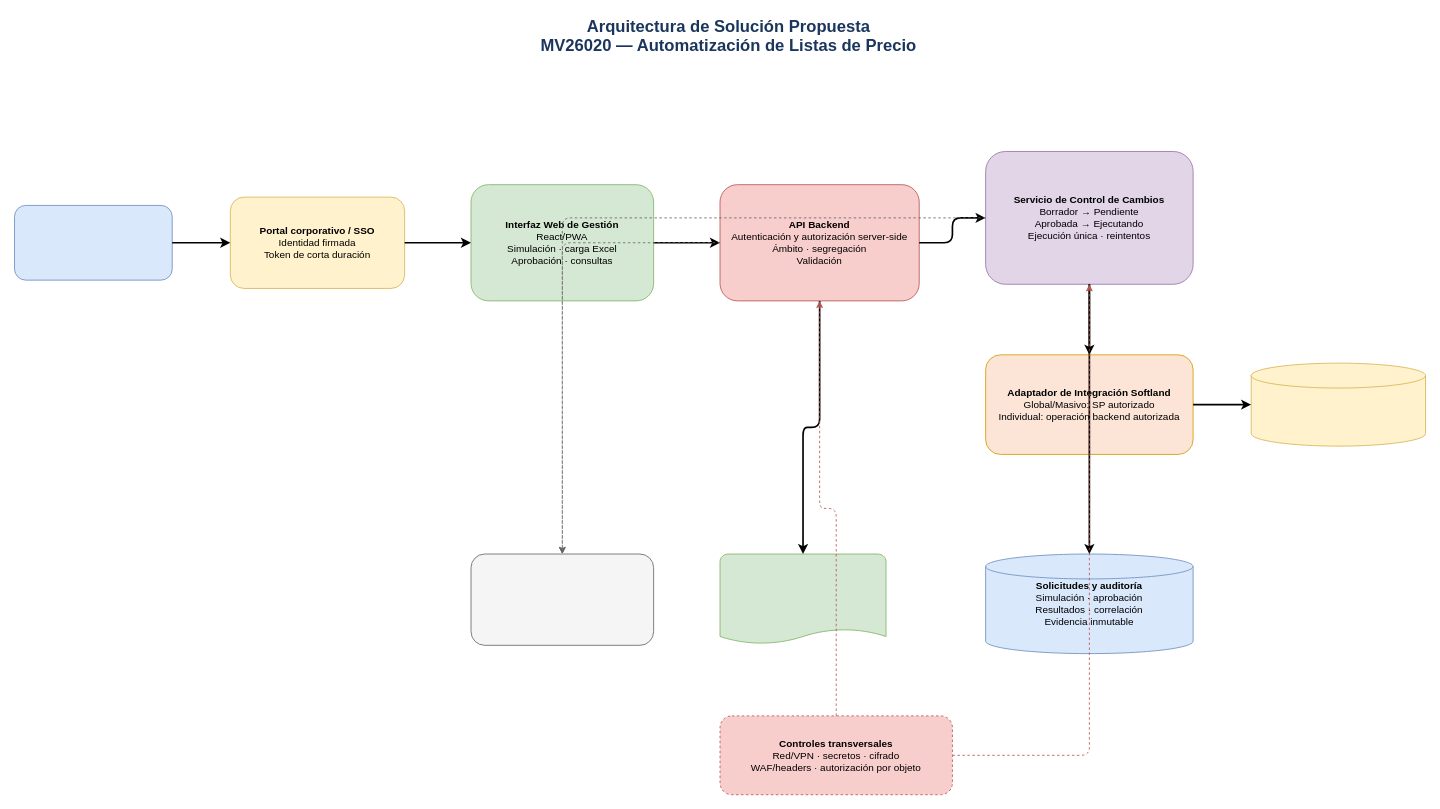
Image size: 1440x809. Some labels were removed from this diagram. The centre of each missing label's shape, as x and y in pixels:
Archivos seguros Plantilla Excel · cargas Reportes por fila: the point at 802,599
Observabilidad Logs estructurados · métricas Alertas · sin secretos: the point at 562,599
Softland Base operativa de precios SP maestro y por compañía: the point at 1338,404
Usuarios internos Solicitante · Aprobador · Auditor: the point at 93,242
